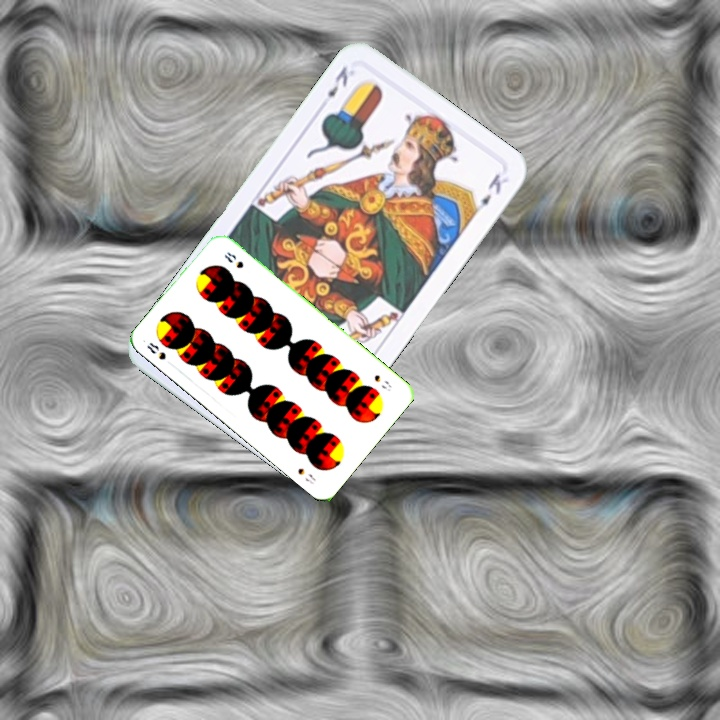EK: (323, 62, 351, 100)
S8: (143, 338, 169, 362), (370, 370, 394, 394)
